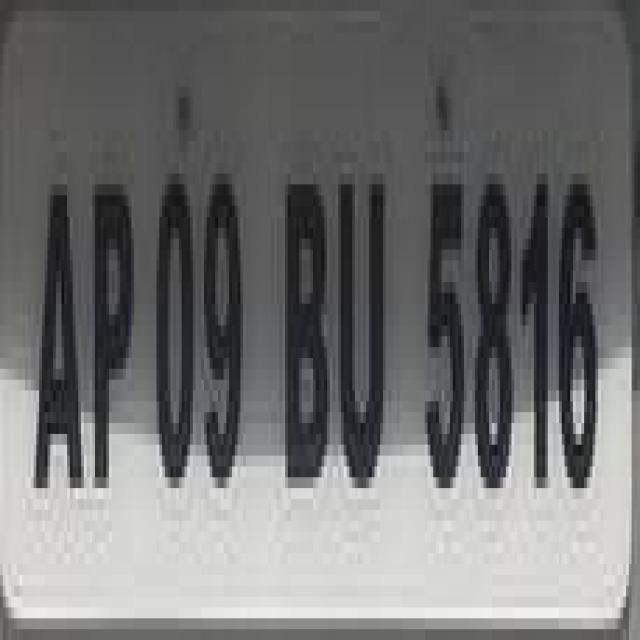license_plate: (11, 54, 640, 618)
